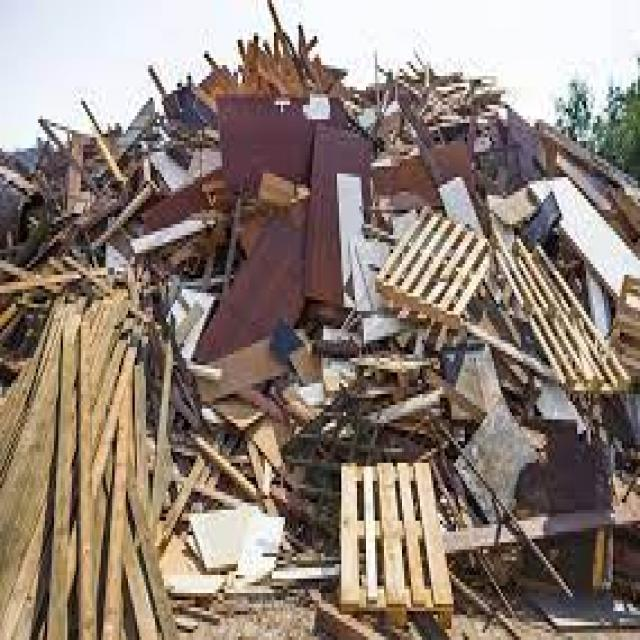green waste: (0, 14, 636, 636)
